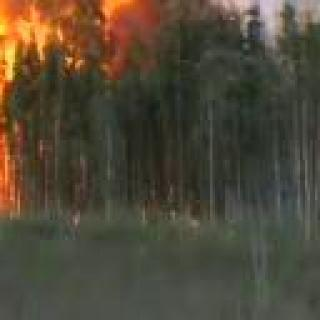fire: (0, 30, 28, 237), (64, 0, 155, 28)
